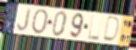0: (51, 11, 68, 38)
9: (68, 13, 84, 40)
D: (102, 15, 121, 44)
J: (17, 8, 32, 32)
L: (87, 14, 101, 42)
O: (30, 8, 49, 36)
